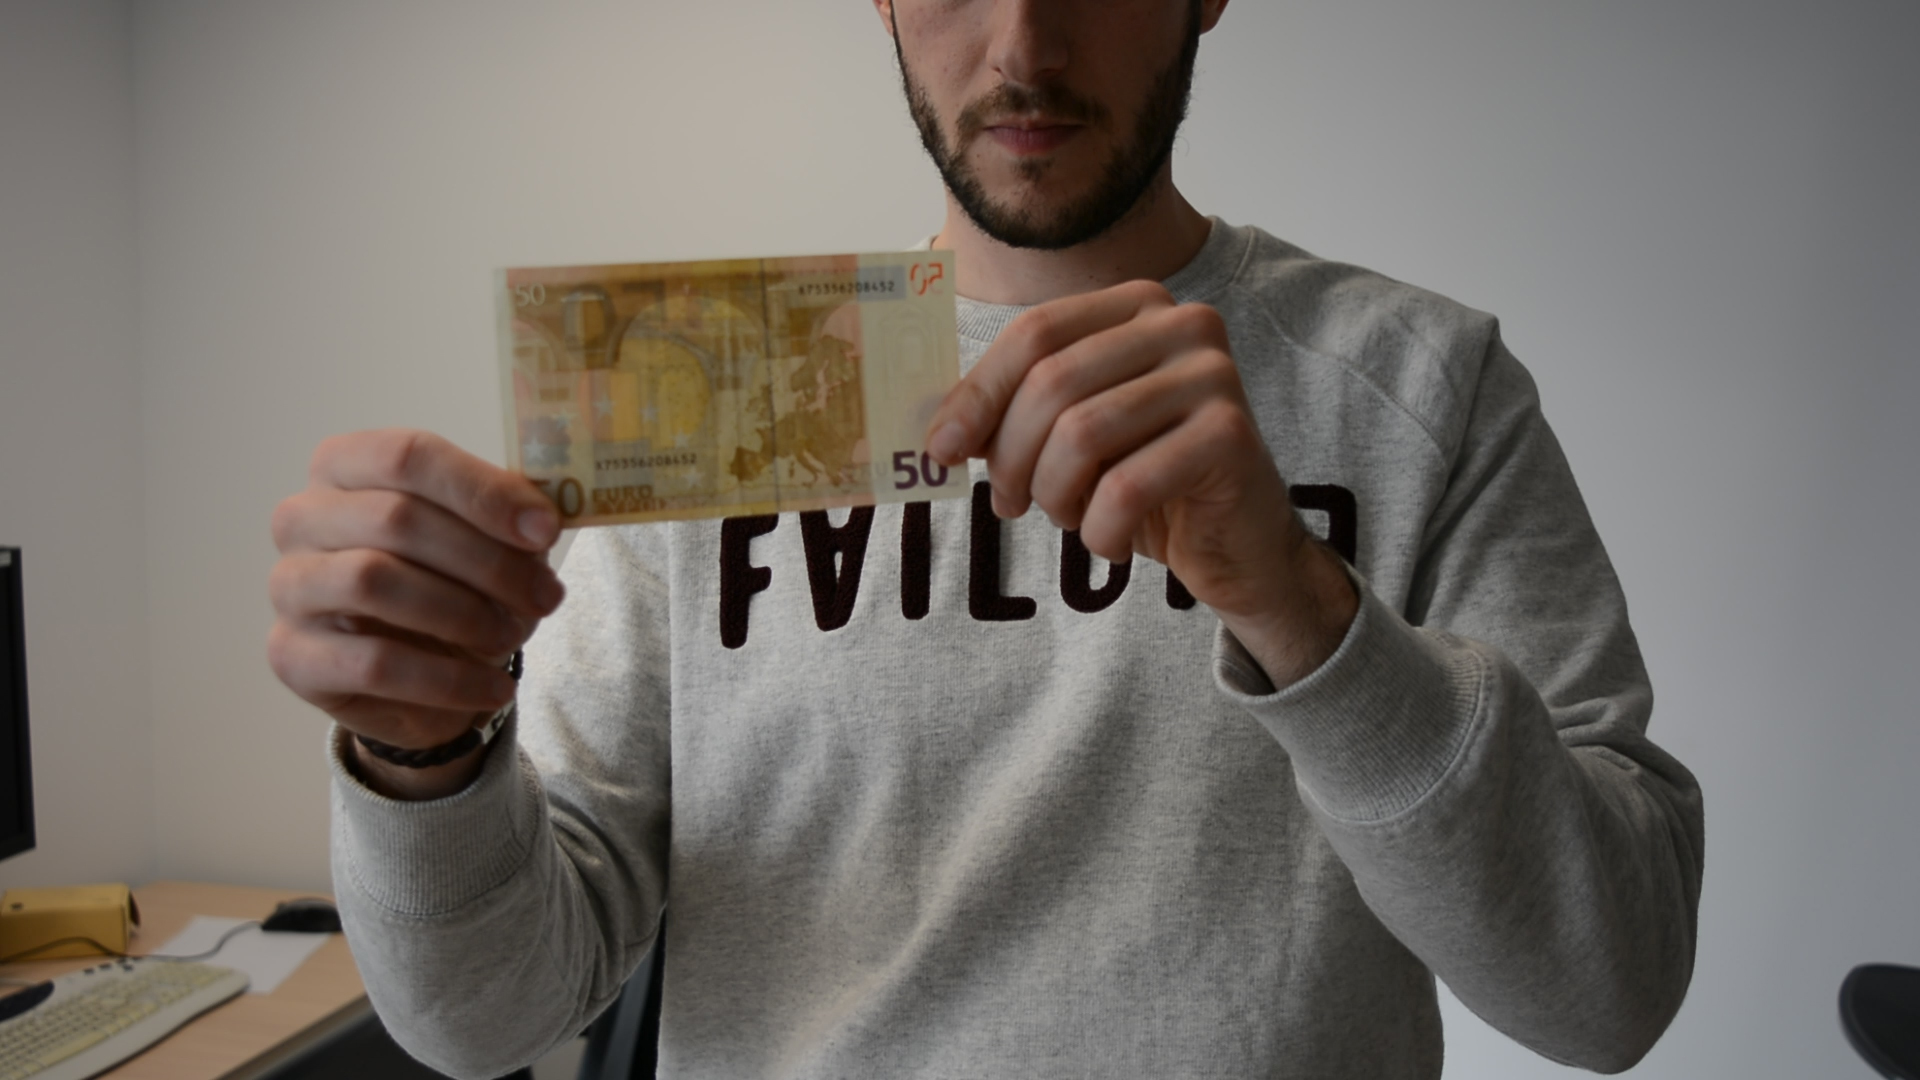billete: (491, 248, 975, 531)
